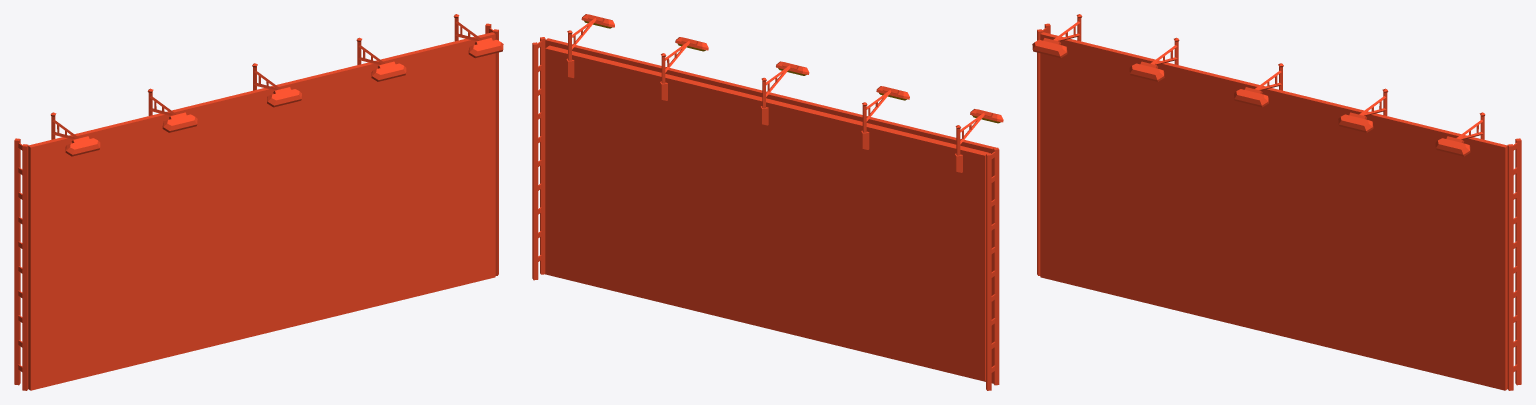
Rendered from SM_Billboard_Mustage_City.fbx.
The picture shows the model from 3 angles, left to right: view 1: azimuth 30°, elevation 25°; view 2: azimuth 150°, elevation 25°; view 3: azimuth 330°, elevation 25°; orthographic projection. The views are drawn at different scales.
Parts seen in each view (by area): view 1: SM_Billboard_Mustage_City; view 2: SM_Billboard_Mustage_City; view 3: SM_Billboard_Mustage_City.
Boxes of the visible parts, box(x1,y1,x2,y2) form: SM_Billboard_Mustage_City: box(14, 14, 503, 390); SM_Billboard_Mustage_City: box(532, 14, 1003, 390); SM_Billboard_Mustage_City: box(1032, 14, 1521, 390).
Bounding box in the file's own units: 5.13 × 2.72 × 0.6856.
